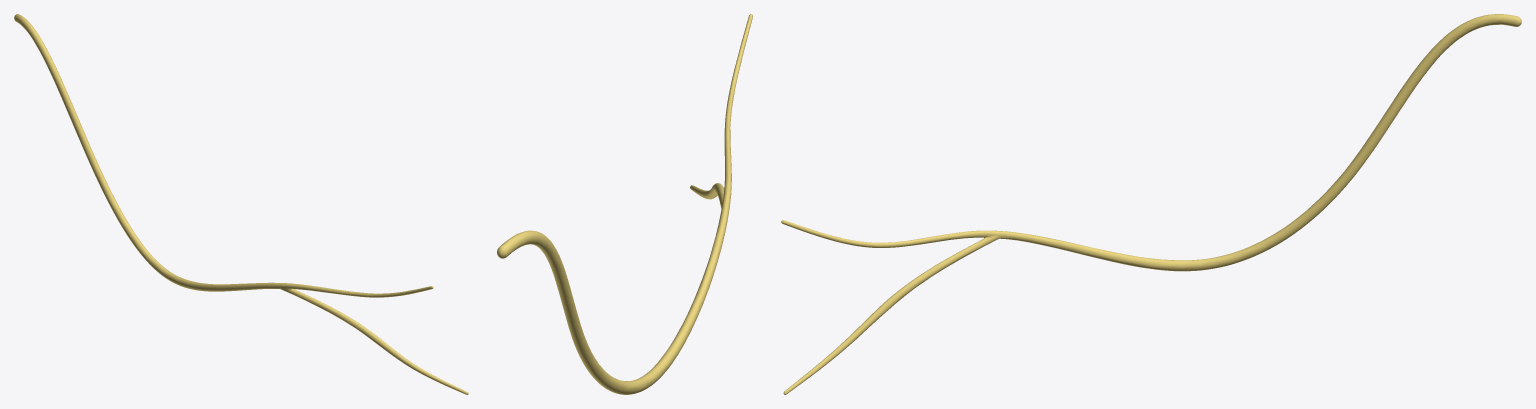
File: Buccal branch of right facial nerve.fbx
The picture shows the model from 3 angles, left to right: view 1: azimuth 30°, elevation 25°; view 2: azimuth 150°, elevation 25°; view 3: azimuth 270°, elevation 25°; orthographic projection. The views are drawn at different scales.
Parts seen in each view (by area): view 1: Buccal branch of right facial nerve; view 2: Buccal branch of right facial nerve; view 3: Buccal branch of right facial nerve.
Boxes of the visible parts, x1=… form: Buccal branch of right facial nerve: x1=14, y1=14, x2=468, y2=394; Buccal branch of right facial nerve: x1=497, y1=14, x2=752, y2=394; Buccal branch of right facial nerve: x1=781, y1=14, x2=1521, y2=394.
Size of the model in its own units: 3.63 by 4.35 by 10.57.
